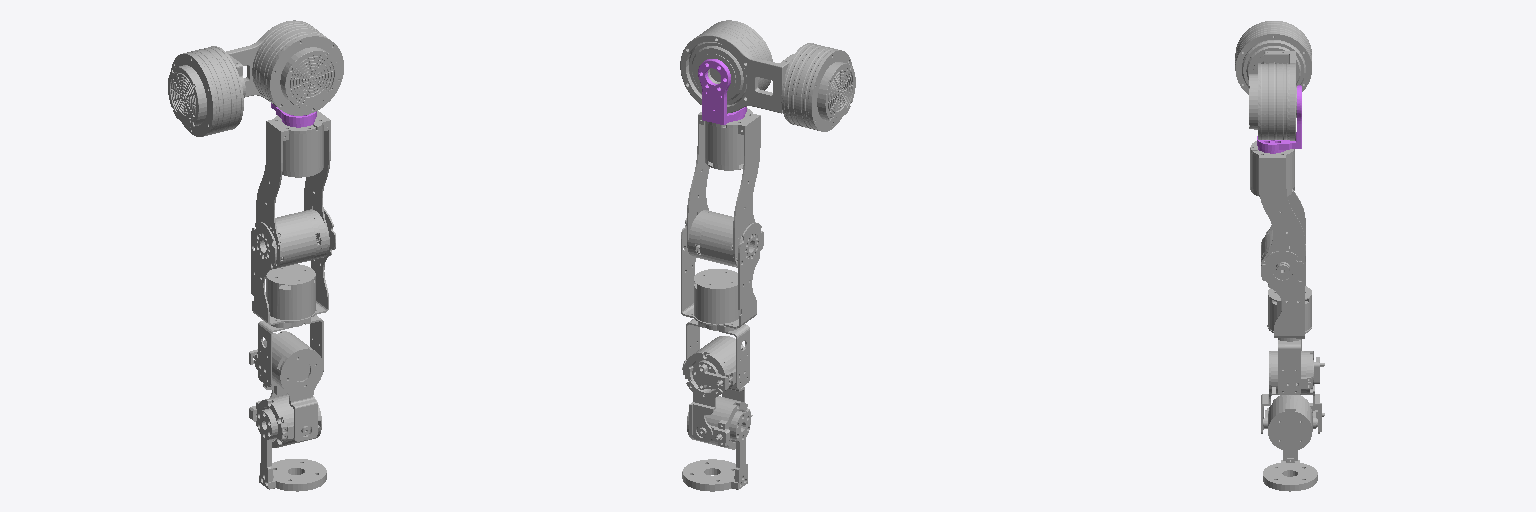
The robot description file, URDF, robot "AM-D02-AemLURDF0413":
<?xml version="1.0" encoding="utf-8"?>
<!-- This URDF was automatically created by SolidWorks to URDF Exporter! Originally created by Stephen Brawner (brawner@gmail.com) 
     Commit Version: 1.6.0-1-g15f4949  Build Version: 1.6.7594.29634
     For more information, please see http://wiki.ros.org/sw_urdf_exporter -->
<robot
  name="AM-D02-AemLURDF0413">
  <link name="world"/>
  <joint name="world_to_base" type="fixed">
    <origin xyz="0 0 1.0" rpy="1.5707963 0 1.5707963" />
    <parent link="world" />
    <child link="base_link" />
  </joint>
  <link
    name="base_link">
    <inertial>
      <origin
        xyz="-3.96062265210911E-05 4.06405755801753E-05 0.0219123886665811"
        rpy="0 0 0" />
      <mass
        value="0.98216803914715" />
      <inertia
        ixx="0.000725756580519763"
        ixy="-1.43555878457085E-09"
        ixz="-3.22948148251073E-08"
        iyy="0.000726748054197442"
        iyz="2.73395187624352E-08"
        izz="0.00111141099741083" />
    </inertial>
    <visual>
      <origin
        xyz="0 0 0"
        rpy="0 0 0" />
      <geometry>
        <mesh
          filename="package://AM-D02-AemLURDF0413/meshes/base_link.STL" />
      </geometry>
      <material
        name="">
        <color
          rgba="0.752941176470588 0.752941176470588 0.752941176470588 1" />
      </material>
    </visual>
    <collision>
      <origin
        xyz="0 0 0"
        rpy="0 0 0" />
      <geometry>
        <mesh
          filename="package://AM-D02-AemLURDF0413/meshes/base_link.STL" />
      </geometry>
    </collision>
  </link>
  <link
    name="ArmLsecond_Link">
    <inertial>
      <origin
        xyz="0.00308045637214737 4.16551354661815E-05 0.0792984361452382"
        rpy="0 0 0" />
      <mass
        value="1.11350268318358" />
      <inertia
        ixx="0.00142873409838073"
        ixy="3.28073252568116E-08"
        ixz="2.94991759661844E-05"
        iyy="0.000980518023676145"
        iyz="1.80390235834406E-07"
        izz="0.000824275233215819" />
    </inertial>
    <visual>
      <origin
        xyz="0 0 0"
        rpy="0 0 0" />
      <geometry>
        <mesh
          filename="package://AM-D02-AemLURDF0413/meshes/ArmLsecond_Link.STL" />
      </geometry>
      <material
        name="">
        <color
          rgba="0.752941176470588 0.752941176470588 0.752941176470588 1" />
      </material>
    </visual>
    <collision>
      <origin
        xyz="0 0 0"
        rpy="0 0 0" />
      <geometry>
        <mesh
          filename="package://AM-D02-AemLURDF0413/meshes/ArmLsecond_Link.STL" />
      </geometry>
    </collision>
  </link>
  <joint
    name="ArmLsecond_Joint"
    type="revolute">
    <origin
      xyz="0 0 0.0555000000000001"
      rpy="0 0 0" />
    <parent
      link="base_link" />
    <child
      link="ArmLsecond_Link" />
    <axis
      xyz="0 0 1" />
    <limit
      lower="-0.75"
      upper="0.75"
      effort="40"
      velocity="0" />
  </joint>
  <link
    name="ArmLthird_Link">
    <inertial>
      <origin
        xyz="-2.96588287707067E-06 -0.0431268231551466 -0.0168134725723825"
        rpy="0 0 0" />
      <mass
        value="0.08043632042576" />
      <inertia
        ixx="6.69008329565981E-05"
        ixy="-3.21111796386686E-09"
        ixz="-4.01110083024006E-09"
        iyy="3.43988273691369E-05"
        iyz="2.02483617657847E-05"
        izz="5.07555817342967E-05" />
    </inertial>
    <visual>
      <origin
        xyz="0 0 0"
        rpy="0 0 0" />
      <geometry>
        <mesh
          filename="package://AM-D02-AemLURDF0413/meshes/ArmLthird_Link.STL" />
      </geometry>
      <material
        name="">
        <color
          rgba="0.862745098039216 0.505882352941176 1 1" />
      </material>
    </visual>
    <collision>
      <origin
        xyz="0 0 0"
        rpy="0 0 0" />
      <geometry>
        <mesh
          filename="package://AM-D02-AemLURDF0413/meshes/ArmLthird_Link.STL" />
      </geometry>
    </collision>
  </link>
  <joint
    name="ArmLthird_Joint"
    type="revolute">
    <origin
      xyz="0.0327 0 0.085"
      rpy="0 1.5708 0" />
    <parent
      link="ArmLsecond_Link" />
    <child
      link="ArmLthird_Link" />
    <axis
      xyz="0 0 1" />
    <limit
      lower="-1.57"
      upper="1.04"
      effort="40"
      velocity="0" />
  </joint>
  <link
    name="ArmLfourth_Link">
    <inertial>
      <origin
        xyz="0.00715841270326577 -0.000861469528049996 0.0830647191529006"
        rpy="0 0 0" />
      <mass
        value="1.06693160034307" />
      <inertia
        ixx="0.00120483560589861"
        ixy="-5.47651761566937E-06"
        ixz="0.000124350671821778"
        iyy="0.00130090232242023"
        iyz="1.29354988674307E-06"
        izz="0.000366918862739863" />
    </inertial>
    <visual>
      <origin
        xyz="0 0 0"
        rpy="0 0 0" />
      <geometry>
        <mesh
          filename="package://AM-D02-AemLURDF0413/meshes/ArmLfourth_Link.STL" />
      </geometry>
      <material
        name="">
        <color
          rgba="0.752941176470588 0.752941176470588 0.752941176470588 1" />
      </material>
    </visual>
    <collision>
      <origin
        xyz="0 0 0"
        rpy="0 0 0" />
      <geometry>
        <mesh
          filename="package://AM-D02-AemLURDF0413/meshes/ArmLfourth_Link.STL" />
      </geometry>
    </collision>
  </link>
  <joint
    name="ArmLfourth_Joint"
    type="continuous">
    <origin
      xyz="0 -0.06625 -0.0341"
      rpy="1.5708 -1.5708 0" />
    <parent
      link="ArmLthird_Link" />
    <child
      link="ArmLfourth_Link" />
    <axis
      xyz="0 0 1" />
    <limit
      lower="-1.2"
      upper="0.8"
      effort="27"
      velocity="0" />
  </joint>
  <link
    name="ArmLfifth_Link">
    <inertial>
      <origin
        xyz="0.0078530538692687 0.062153506702846 -0.0396430512961026"
        rpy="0 0 0" />
      <mass
        value="0.472779085107902" />
      <inertia
        ixx="0.000383046636159055"
        ixy="1.99380620927532E-05"
        ixz="5.19681358249162E-06"
        iyy="0.00016924356258232"
        iyz="-2.32756439491972E-06"
        izz="0.000405487576978861" />
    </inertial>
    <visual>
      <origin
        xyz="0 0 0"
        rpy="0 0 0" />
      <geometry>
        <mesh
          filename="package://AM-D02-AemLURDF0413/meshes/ArmLfifth_Link.STL" />
      </geometry>
      <material
        name="">
        <color
          rgba="0.752941176470588 0.752941176470588 0.752941176470588 1" />
      </material>
    </visual>
    <collision>
      <origin
        xyz="0 0 0"
        rpy="0 0 0" />
      <geometry>
        <mesh
          filename="package://AM-D02-AemLURDF0413/meshes/ArmLfifth_Link.STL" />
      </geometry>
    </collision>
  </link>
  <joint
    name="ArmLfifth_Joint"
    type="revolute">
    <origin
      xyz="0.013843 -0.037999 0.15289"
      rpy="1.5708 0 0.011055" />
    <parent
      link="ArmLfourth_Link" />
    <child
      link="ArmLfifth_Link" />
    <axis
      xyz="0 0 1" />
    <limit
      lower="-2.09"
      upper="1.57"
      effort="27"
      velocity="0" />
  </joint>
  <link
    name="ArmLsixth_Link">
    <inertial>
      <origin
        xyz="0.00105113381266358 0.000349454361812995 0.0664090932037668"
        rpy="0 0 0" />
      <mass
        value="0.596839390455333" />
      <inertia
        ixx="0.000290972663469122"
        ixy="-5.38140613366551E-07"
        ixz="-7.09262691796454E-06"
        iyy="0.000256537948659856"
        iyz="-3.96726886881011E-07"
        izz="0.000158187012658514" />
    </inertial>
    <visual>
      <origin
        xyz="0 0 0"
        rpy="0 0 0" />
      <geometry>
        <mesh
          filename="package://AM-D02-AemLURDF0413/meshes/ArmLsixth_Link.STL" />
      </geometry>
      <material
        name="">
        <color
          rgba="0.752941176470588 0.752941176470588 0.752941176470588 1" />
      </material>
    </visual>
    <collision>
      <origin
        xyz="0 0 0"
        rpy="0 0 0" />
      <geometry>
        <mesh
          filename="package://AM-D02-AemLURDF0413/meshes/ArmLsixth_Link.STL" />
      </geometry>
    </collision>
  </link>
  <joint
    name="ArmLsixth_Joint"
    type="revolute">
    <origin
      xyz="0.0084105 0.09413 -0.039799"
      rpy="-1.5708 -0.011055 0" />
    <parent
      link="ArmLfifth_Link" />
    <child
      link="ArmLsixth_Link" />
    <axis
      xyz="0 0 1" />
    <limit
      lower="-0.8"
      upper="0.8"
      effort="7"
      velocity="0" />
  </joint>
  <link
    name="ArmLsixthoutput_Link">
    <inertial>
      <origin
        xyz="0.000597044966583749 2.16222262766075E-05 -0.0351059201024274"
        rpy="0 0 0" />
      <mass
        value="0.350184696857417" />
      <inertia
        ixx="0.000142344858384859"
        ixy="-1.15691242160537E-08"
        ixz="-7.25369050590821E-07"
        iyy="0.000123795194557589"
        iyz="-1.48320856349001E-08"
        izz="0.000121896977325066" />
    </inertial>
    <visual>
      <origin
        xyz="0 0 0"
        rpy="0 0 0" />
      <geometry>
        <mesh
          filename="package://AM-D02-AemLURDF0413/meshes/ArmLsixthoutput_Link.STL" />
      </geometry>
      <material
        name="">
        <color
          rgba="0.752941176470588 0.752941176470588 0.752941176470588 1" />
      </material>
    </visual>
    <collision>
      <origin
        xyz="0 0 0"
        rpy="0 0 0" />
      <geometry>
        <mesh
          filename="package://AM-D02-AemLURDF0413/meshes/ArmLsixthoutput_Link.STL" />
      </geometry>
    </collision>
  </link>
  <joint
    name="ArmLsixthoutput_Joint"
    type="revolute">
    <origin
      xyz="0.0364444491045691 0.000703587403396932 0.137000000000005"
      rpy="-1.5707963267949 0 -1.55974177319404" />
    <parent
      link="ArmLsixth_Link" />
    <child
      link="ArmLsixthoutput_Link" />
    <axis
      xyz="0 0 1" />
    <limit
      lower="-1.07"
      upper="0.79"
      effort="7"
      velocity="0" />
  </joint>
  <link
    name="ArmLseventh_Link">
    <inertial>
      <origin
        xyz="-0.000233812383860062 0.0524032580401667 -0.0151437487400374"
        rpy="0 0 0" />
      <mass
        value="0.130071892485594" />
      <inertia
        ixx="5.94029504039418E-05"
        ixy="2.06868636253285E-08"
        ixz="9.49755076418449E-09"
        iyy="6.25209076446049E-05"
        iyz="1.87131254819254E-06"
        izz="5.85442427772894E-05" />
    </inertial>
    <visual>
      <origin
        xyz="0 0 0"
        rpy="0 0 0" />
      <geometry>
        <mesh
          filename="package://AM-D02-AemLURDF0413/meshes/ArmLseventh_Link.STL" />
      </geometry>
      <material
        name="">
        <color
          rgba="0.752941176470588 0.752941176470588 0.752941176470588 1" />
      </material>
    </visual>
    <collision>
      <origin
        xyz="0 0 0"
        rpy="0 0 0" />
      <geometry>
        <mesh
          filename="package://AM-D02-AemLURDF0413/meshes/ArmLseventh_Link.STL" />
      </geometry>
    </collision>
  </link>
  <joint
    name="ArmLseventh_Joint"
    type="revolute">
    <origin
      xyz="0.0205004890027136 -0.000738641908959226 -0.0357499999999988"
      rpy="3.14159265358871 -1.55974177319403 0" />
    <parent
      link="ArmLsixthoutput_Link" />
    <child
      link="ArmLseventh_Link" />
    <axis
      xyz="0.0110543260730592 -0.000656056606246875 0.999938683852565" />
    <limit
      lower="-1.07"
      upper="1.07"
      effort="9"
      velocity="0" />
  </joint>
</robot>

--- What the picture shows (computed from the rendered views, not written in the file) ---
Views: 3 orthographic renders of the robot side by side, from view 1: azimuth 30°, elevation 25°; view 2: azimuth 150°, elevation 25°; view 3: azimuth 270°, elevation 25°.
Model AM-D02-AemLURDF0413 with 9 links and 8 joints (6 revolute, 1 continuous, 1 fixed), rooted at world, posed every joint at zero.
Links seen in each view (by area): view 1: ArmLfourth_Link, ArmLsecond_Link, ArmLsixth_Link, base_link, ArmLfifth_Link, ArmLseventh_Link, ArmLsixthoutput_Link; view 2: ArmLfourth_Link, ArmLsecond_Link, base_link, ArmLfifth_Link, ArmLsixth_Link, ArmLseventh_Link, ArmLthird_Link, ArmLsixthoutput_Link; view 3: ArmLfourth_Link, ArmLsecond_Link, ArmLfifth_Link, base_link, ArmLsixth_Link, ArmLsixthoutput_Link, ArmLseventh_Link, ArmLthird_Link.
Boxes of the visible links, <box> form: ArmLfourth_Link: <box>256,111,330,268</box>; ArmLsecond_Link: <box>226,20,343,115</box>; ArmLsixth_Link: <box>249,315,323,441</box>; base_link: <box>168,46,243,136</box>; ArmLfifth_Link: <box>251,209,335,324</box>; ArmLseventh_Link: <box>257,408,326,491</box>; ArmLsixthoutput_Link: <box>249,394,321,447</box>; ArmLfourth_Link: <box>687,108,760,267</box>; ArmLsecond_Link: <box>680,20,793,113</box>; base_link: <box>781,43,855,131</box>; ArmLfifth_Link: <box>681,218,763,328</box>; ArmLsixth_Link: <box>682,319,749,442</box>; ArmLseventh_Link: <box>682,411,750,491</box>; ArmLthird_Link: <box>698,59,746,124</box>; ArmLsixthoutput_Link: <box>687,396,752,449</box>; ArmLfourth_Link: <box>1250,141,1305,283</box>; ArmLsecond_Link: <box>1249,51,1296,140</box>; ArmLfifth_Link: <box>1261,230,1311,338</box>; base_link: <box>1235,21,1311,94</box>; ArmLsixth_Link: <box>1261,338,1324,433</box>; ArmLsixthoutput_Link: <box>1263,395,1324,451</box>; ArmLseventh_Link: <box>1263,450,1317,491</box>; ArmLthird_Link: <box>1257,85,1301,153</box>.
Bounding box of the posed robot: 0.2012 × 0.1137 × 0.5766 m (x, y, z).
Meshes: 8 distinct files referenced, 8 mesh visuals loaded (8 binary STL).
